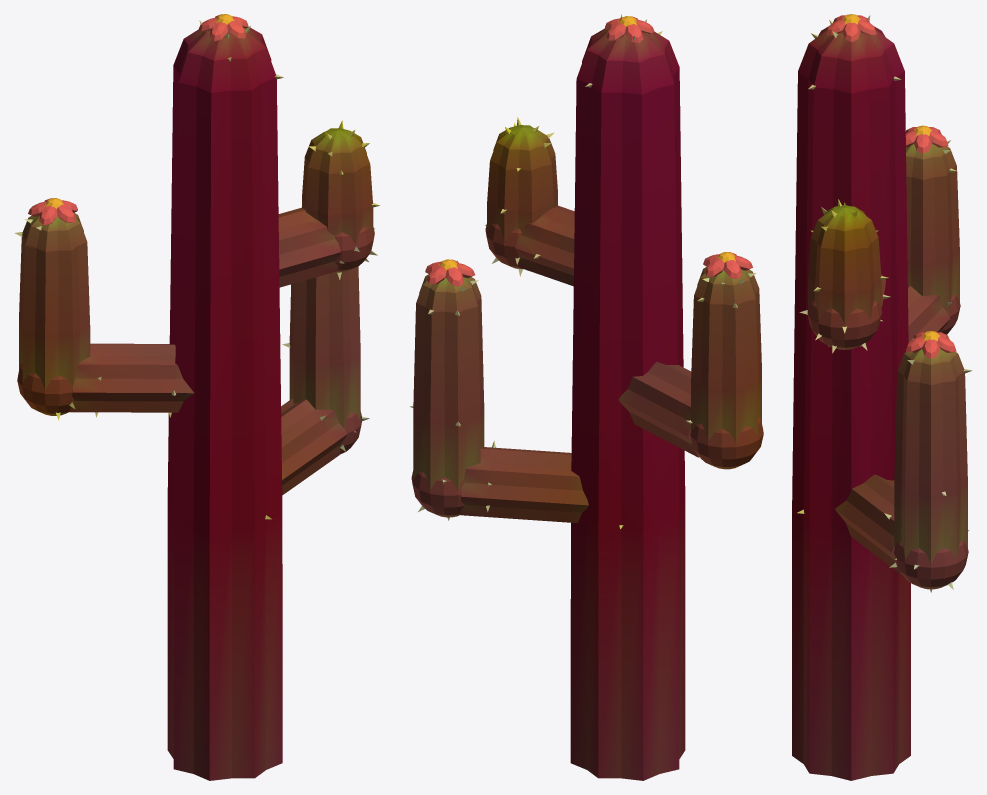
The model's file is Cactus_Saguaro_02.glb.
3 views of the same model, side by side, from view 1: azimuth 30°, elevation 25°; view 2: azimuth 150°, elevation 25°; view 3: azimuth 270°, elevation 25° (orthographic).
Parts seen in each view (by area): view 1: Cactus_Saguaro_02; view 2: Cactus_Saguaro_02; view 3: Cactus_Saguaro_02.
Boxes of the visible parts, x1=… form: Cactus_Saguaro_02: x1=14, y1=14, x2=379, y2=780; Cactus_Saguaro_02: x1=409, y1=14, x2=763, y2=780; Cactus_Saguaro_02: x1=792, y1=14, x2=972, y2=780.
Size of the model in its own units: 2.2 by 4.56 by 1.
